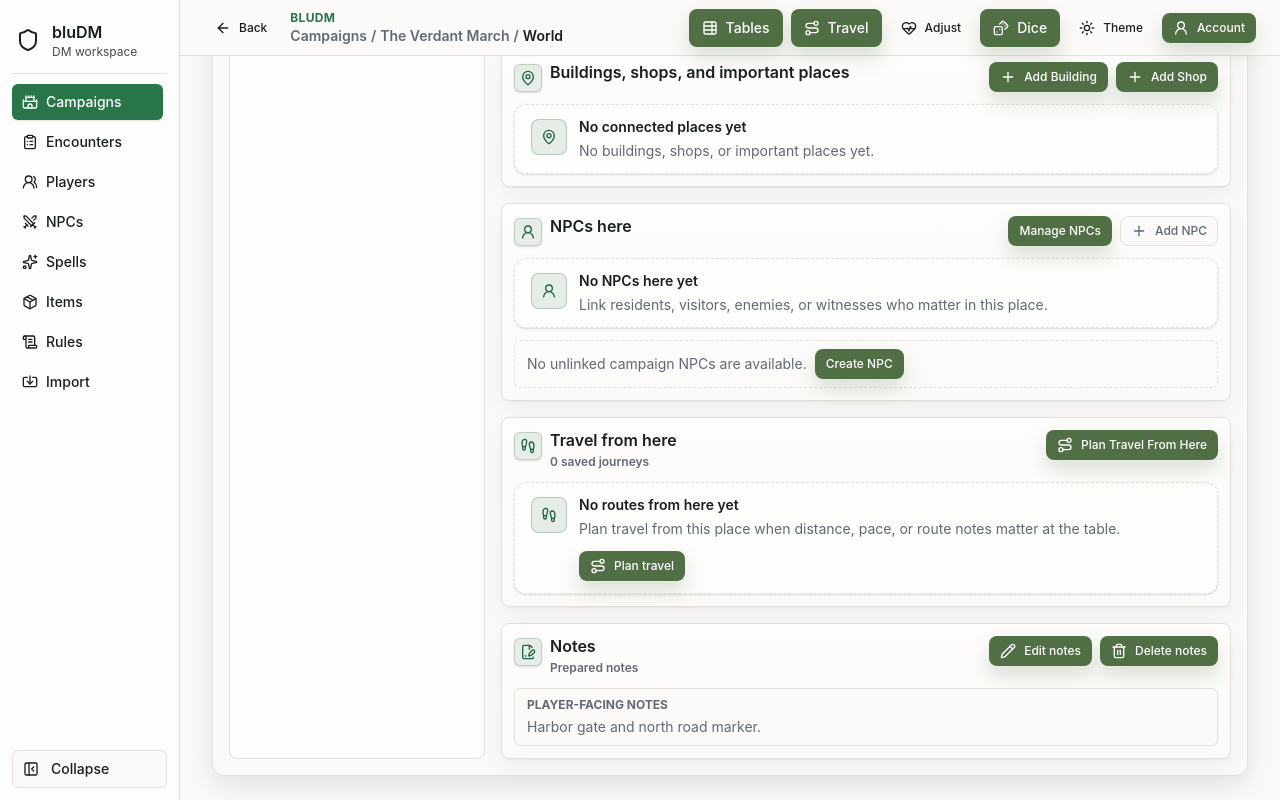
Test: CampaignWorldPage travel context › opens the travel calculator with the selected location as route origin
(page scrolled)
Click the button "Plan Travel From Here": click(1132, 445) [1046,430,1218,460]
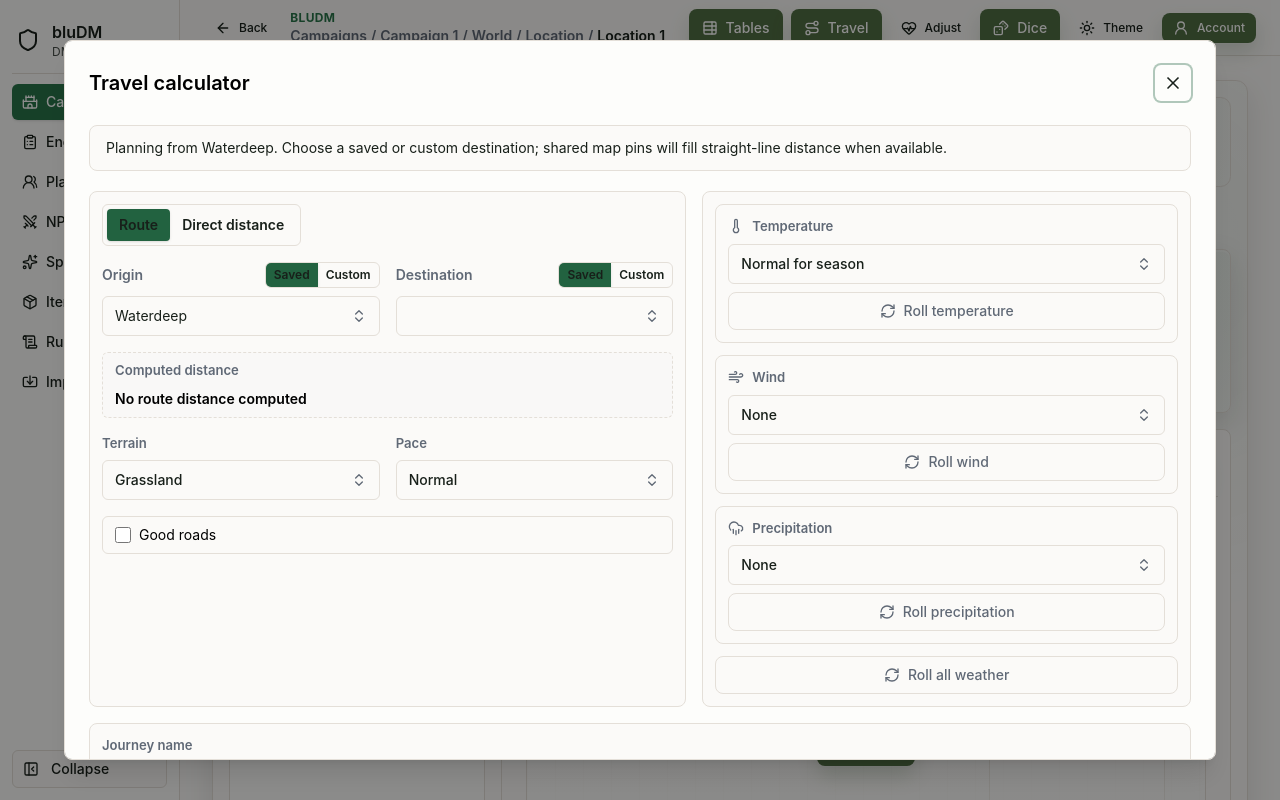
Expected: the text "Planning from Waterdeep" is shown, [89,125,1191,171]
Expected: the text "Waterdeep" is shown, [115,306,187,326]
Expected: the text "No route distance computed" is shown, [115,390,307,407]
